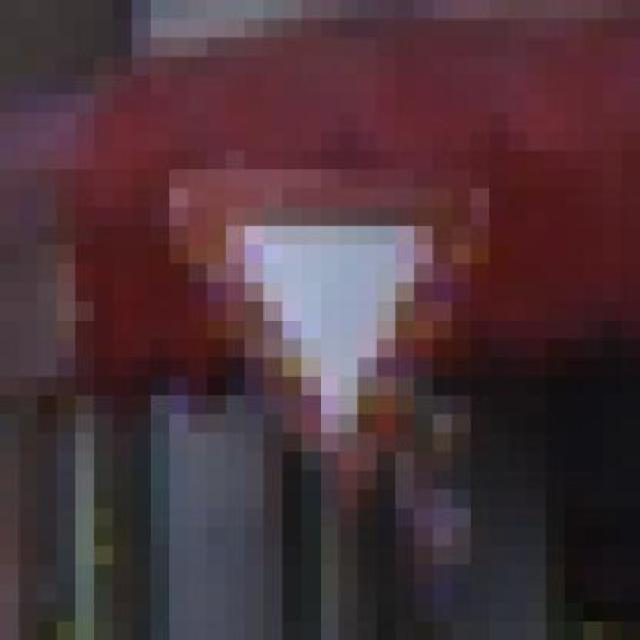Give Way: (113, 150, 527, 527)
